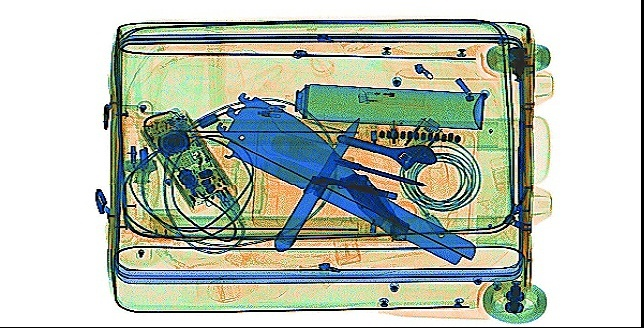knife: (273, 114, 361, 250), (337, 167, 410, 242)
lighter: (355, 88, 424, 108)
pressure: (282, 80, 486, 128)
